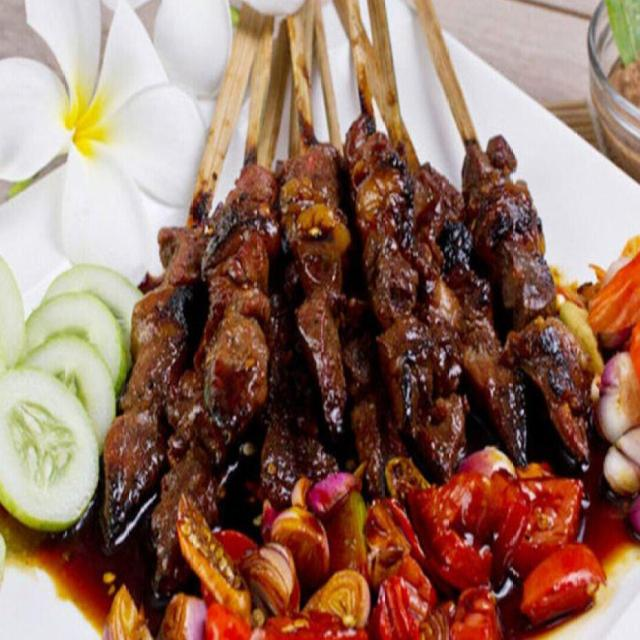Sate: (125, 0, 597, 478)
